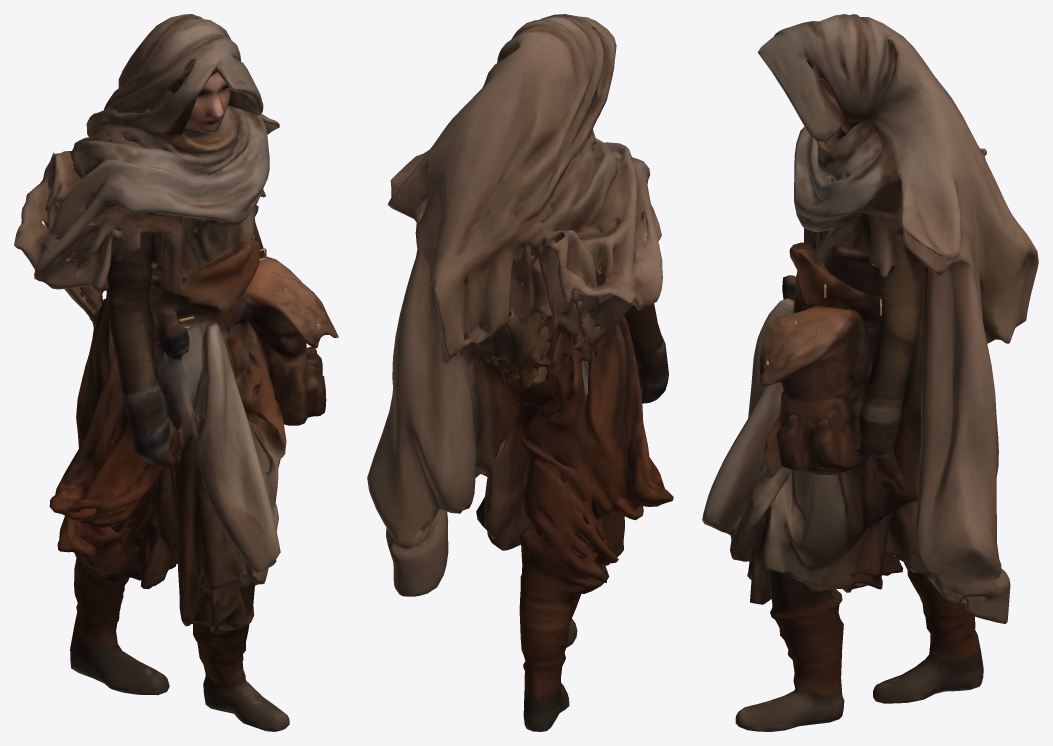
The picture shows the model from 3 angles, left to right: view 1: azimuth 30°, elevation 25°; view 2: azimuth 150°, elevation 25°; view 3: azimuth 270°, elevation 25°; orthographic projection. The views are drawn at different scales.
Parts seen in each view (by area): view 1: Traveler source / original UV retained; view 2: Traveler source / original UV retained; view 3: Traveler source / original UV retained.
Part boxes in pixels (left/top/right/bottom): Traveler source / original UV retained: left=14, top=14, right=338, bottom=731; Traveler source / original UV retained: left=367, top=14, right=673, bottom=731; Traveler source / original UV retained: left=702, top=14, right=1038, bottom=731.
Size of the model in its own units: 0.4062 by 1 by 0.4428.
6 materials, 1 textured.
